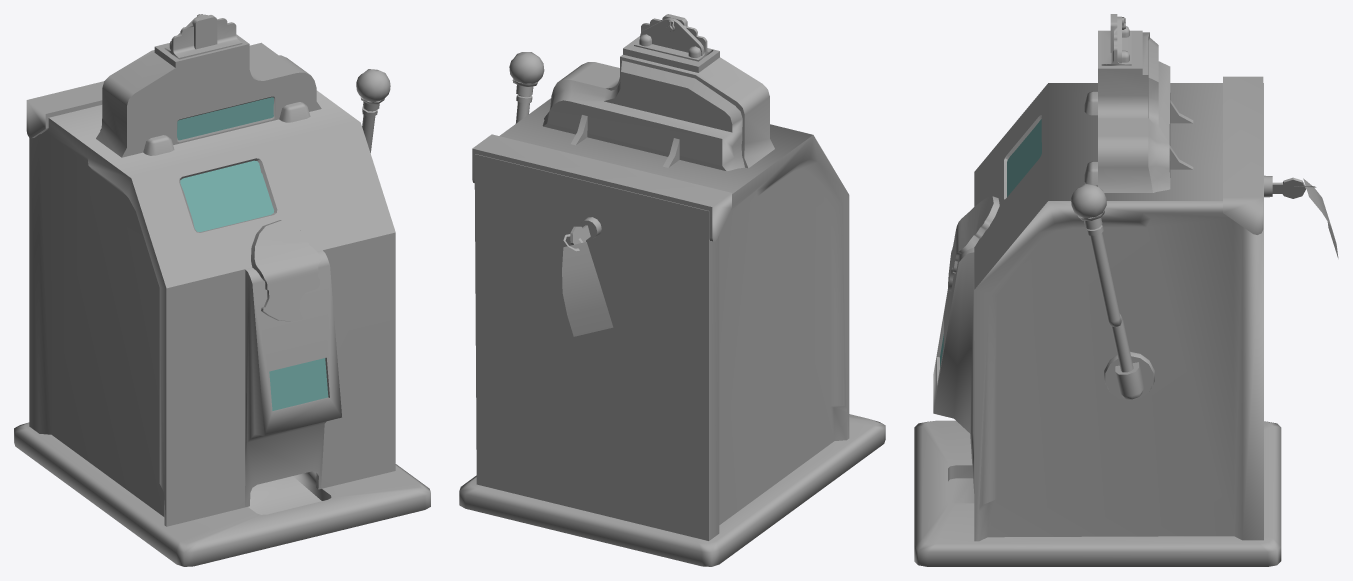
3 renders of one model, left to right at view 1: azimuth 30°, elevation 25°; view 2: azimuth 150°, elevation 25°; view 3: azimuth 270°, elevation 25°, orthographic. The views are drawn at different scales.
Parts seen in each view (by area): view 1: corpus_low, litel_detal_low, midel_detal_low, glass; view 2: corpus_low, litel_detal_low, midel_detal_low; view 3: corpus_low, litel_detal_low, midel_detal_low, glass.
Part boxes in pixels (x1,y1,x2,y2): corpus_low: [29, 14, 395, 526]; litel_detal_low: [14, 42, 430, 566]; midel_detal_low: [96, 34, 321, 321]; glass: [177, 97, 328, 410]; corpus_low: [474, 14, 849, 540]; litel_detal_low: [459, 79, 885, 566]; midel_detal_low: [542, 26, 774, 171]; corpus_low: [933, 14, 1306, 541]; litel_detal_low: [914, 76, 1338, 566]; midel_detal_low: [948, 22, 1193, 291]; glass: [940, 119, 1041, 367].
Bounding box in the file's own units: 17.75 × 26.97 × 21.46.
